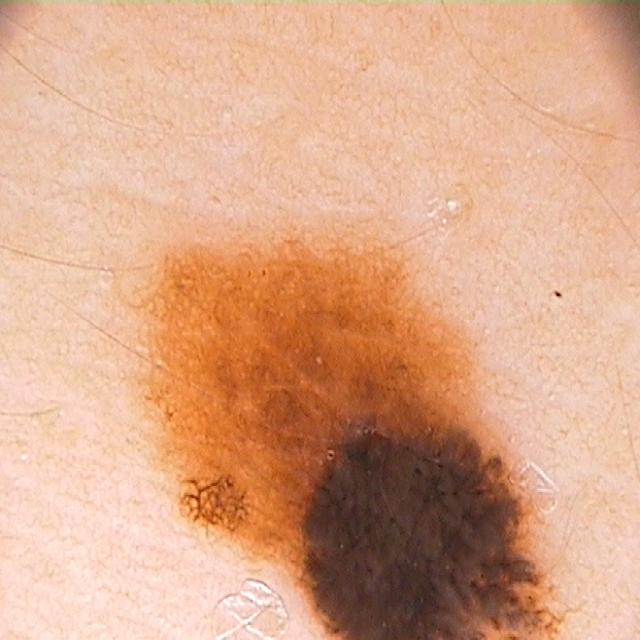Melanoma: (168, 225, 570, 640)
